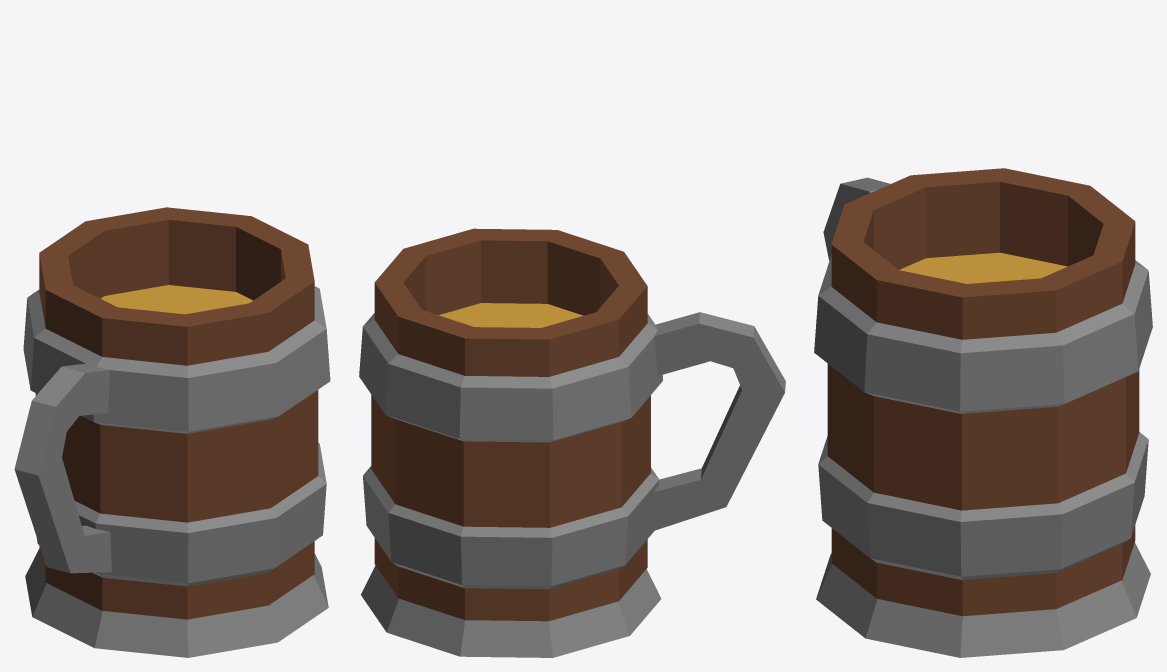
File: mug_with_beer_2.fbx
The picture shows the model from 3 angles, left to right: view 1: azimuth 30°, elevation 25°; view 2: azimuth 150°, elevation 25°; view 3: azimuth 270°, elevation 25°; orthographic projection. The views are drawn at different scales.
Visible parts, largest first — view 1: beer_stein; view 2: beer_stein; view 3: beer_stein.
Part boxes in pixels (<box>): beer_stein: <box>14,207,330,657</box>; beer_stein: <box>359,228,785,657</box>; beer_stein: <box>814,168,1152,657</box>.
Bounding box in the file's own units: 27.24 × 40.59 × 20.44.
